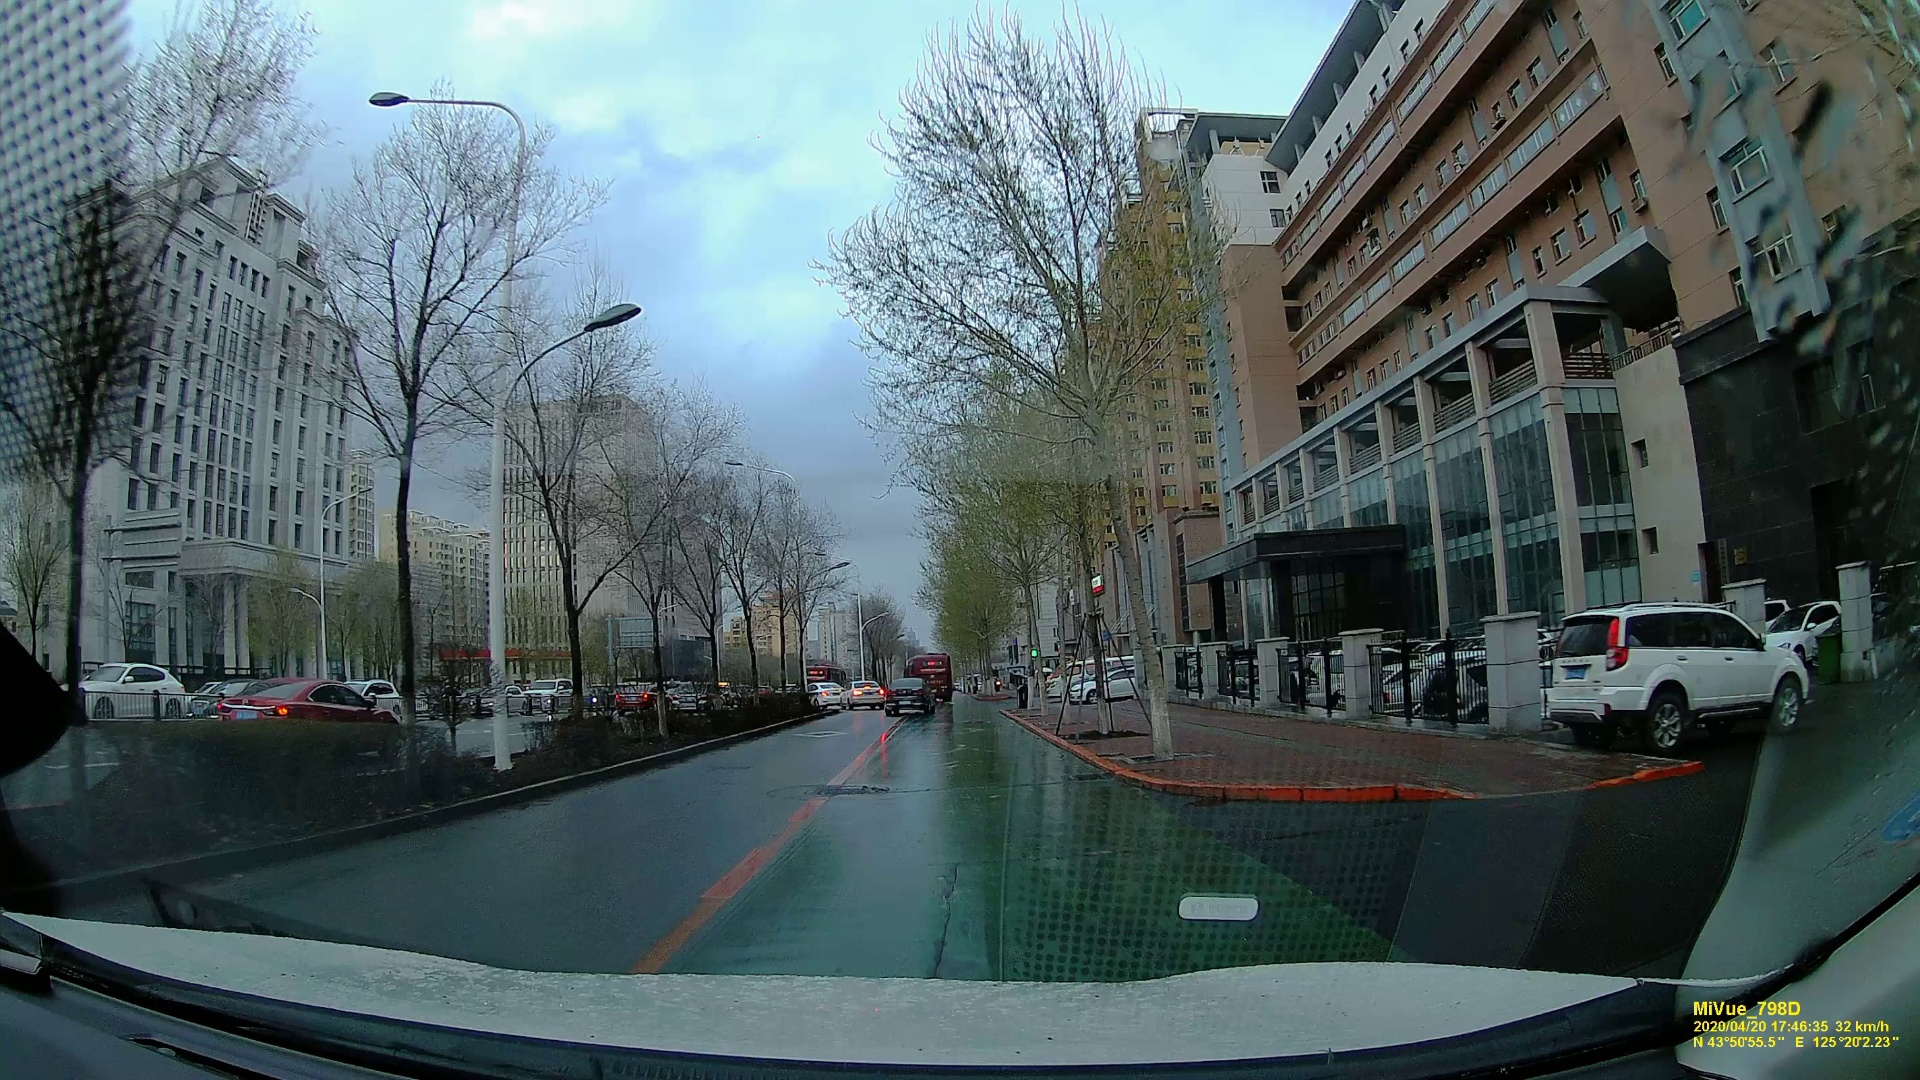bus: (902, 653, 953, 700)
vehicle: (1540, 597, 1815, 752), (212, 676, 402, 727), (80, 659, 186, 723), (885, 682, 928, 715), (847, 680, 881, 707), (814, 683, 837, 709)
